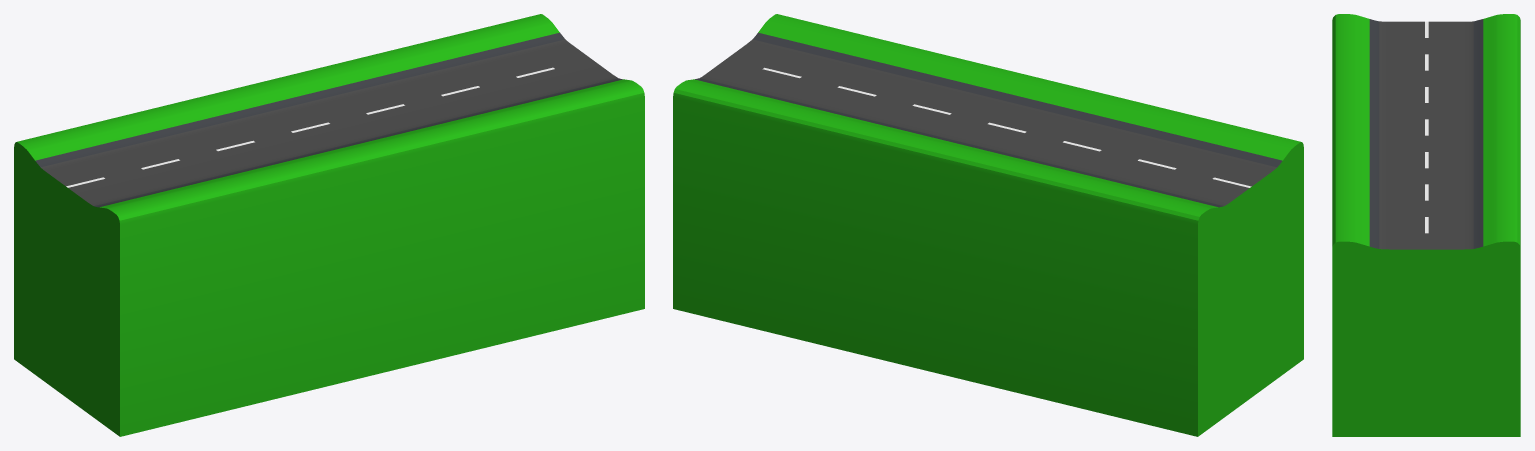
The model's file is Дорожка для спорткара (1).fbx.
3 views of the same model, side by side, from view 1: azimuth 30°, elevation 25°; view 2: azimuth 150°, elevation 25°; view 3: azimuth 270°, elevation 25° (orthographic). The views are drawn at different scales.
Visible parts, largest first — view 1: Cube.024; view 2: Cube.024; view 3: Cube.024.
Boxes of the visible parts, left/top/right/bottom form: Cube.024: left=14, top=14, right=644, bottom=436; Cube.024: left=673, top=14, right=1303, bottom=436; Cube.024: left=1332, top=14, right=1520, bottom=436.
Bounding box in the file's own units: 2000 × 800 × 700.
